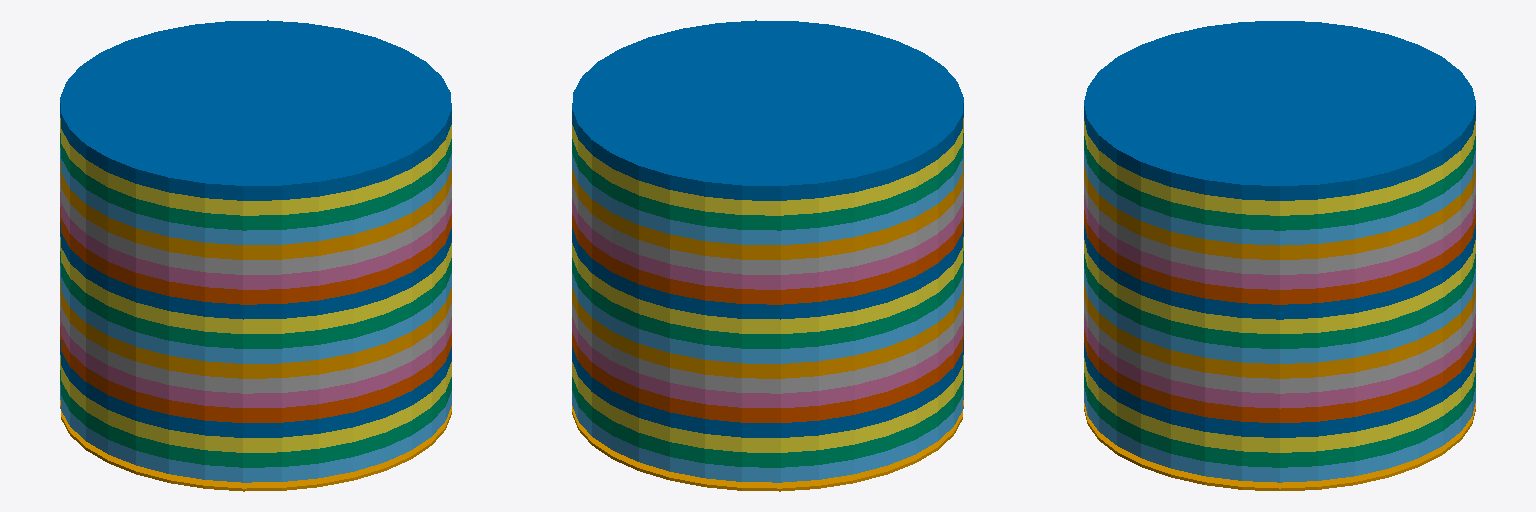
robot.urdf — 1_cylinder:
<?xml version="1.0"?>

<robot name="1_cylinder">

    <!-- The base --> 
    <link name="base_link">
        <inertial>
            <origin xyz="0 0 0" rpy="0 0 0"/>
            <mass value="1"/>
            <inertia ixx="0.1" ixy="0.0" ixz="0.0" iyy="0.1" iyz="0.0" izz="0.1"/>
        </inertial>
        <visual>
            <origin xyz="0 0 0" rpy="0 0 0"/>
            <geometry>
                <cylinder length="0.01" radius="0.6"/>
            </geometry>
        </visual>
        <collision>
            <origin xyz="0 0 0" rpy="0 0 0"/>
            <geometry>
                <cylinder length="0.01" radius="0.6"/>
            </geometry>
        </collision>
    </link>

    <!-- 0 -->
    <link name="0_link">
        <inertial>
            <origin xyz="0 0 0" rpy="0 0 0"/>
            <mass value="1"/>
            <inertia ixx="0.01" ixy="0.0" ixz="0.0" iyy="0.01" iyz="0.0" izz="0.01"/>
        </inertial>
        <visual>
            <origin xyz="0 0 0" rpy="0 0 0"/>
            <geometry>
                <cylinder length="0.05" radius="0.6"/>
            </geometry>
        </visual>
        <collision>
            <origin xyz="0 0 0" rpy="0 0 0"/>
            <geometry>
                <cylinder length="0.05" radius="0.6"/>
            </geometry>
        </collision>
    </link>

    <!-- Joint from base to 0 -->
    <joint name="base_0_joint" type="fixed">
        <parent link="base_link"/>
        <child link="0_link"/>
        <origin xyz="0 0 0.05" rpy="0 0 0"/>
    </joint>

    <!-- 1 -->
    <link name="1_link">
        <inertial>
            <origin xyz="0 0 0" rpy="0 0 0"/>
            <mass value="1"/>
            <inertia ixx="0.01" ixy="0.0" ixz="0.0" iyy="0.01" iyz="0.0" izz="0.01"/>
        </inertial>
        <visual>
            <origin xyz="0 0 0" rpy="0 0 0"/>
            <geometry>
                <cylinder length="0.05" radius="0.6"/>
            </geometry>
        </visual>
        <collision>
            <origin xyz="0 0 0" rpy="0 0 0"/>
            <geometry>
                <cylinder length="0.05" radius="0.6"/>
            </geometry>
        </collision>
    </link>

    <!-- Joint from 0 to 1 -->
    <joint name="0_1_joint" type="fixed">
        <parent link="0_link"/>
        <child link="1_link"/>
        <origin xyz="0 0 0.05" rpy="0 0 0"/>
    </joint>

    <!-- 2 -->
    <link name="2_link">
        <inertial>
            <origin xyz="0 0 0" rpy="0 0 0"/>
            <mass value="1"/>
            <inertia ixx="0.01" ixy="0.0" ixz="0.0" iyy="0.01" iyz="0.0" izz="0.01"/>
        </inertial>
        <visual>
            <origin xyz="0 0 0" rpy="0 0 0"/>
            <geometry>
                <cylinder length="0.05" radius="0.6"/>
            </geometry>
        </visual>
        <collision>
            <origin xyz="0 0 0" rpy="0 0 0"/>
            <geometry>
                <cylinder length="0.05" radius="0.6"/>
            </geometry>
        </collision>
    </link>

    <!-- Joint from 1 to 2 -->
    <joint name="1_2_joint" type="fixed">
        <parent link="1_link"/>
        <child link="2_link"/>
        <origin xyz="0 0 0.05" rpy="0 0 0"/>
    </joint>

    <!-- 3 -->
    <link name="3_link">
        <inertial>
            <origin xyz="0 0 0" rpy="0 0 0"/>
            <mass value="1"/>
            <inertia ixx="0.01" ixy="0.0" ixz="0.0" iyy="0.01" iyz="0.0" izz="0.01"/>
        </inertial>
        <visual>
            <origin xyz="0 0 0" rpy="0 0 0"/>
            <geometry>
                <cylinder length="0.05" radius="0.6"/>
            </geometry>
        </visual>
        <collision>
            <origin xyz="0 0 0" rpy="0 0 0"/>
            <geometry>
                <cylinder length="0.05" radius="0.6"/>
            </geometry>
        </collision>
    </link>

    <!-- Joint from 2 to 3 -->
    <joint name="2_3_joint" type="fixed">
        <parent link="2_link"/>
        <child link="3_link"/>
        <origin xyz="0 0 0.05" rpy="0 0 0"/>
    </joint>

    <!-- 4 -->
    <link name="4_link">
        <inertial>
            <origin xyz="0 0 0" rpy="0 0 0"/>
            <mass value="1"/>
            <inertia ixx="0.01" ixy="0.0" ixz="0.0" iyy="0.01" iyz="0.0" izz="0.01"/>
        </inertial>
        <visual>
            <origin xyz="0 0 0" rpy="0 0 0"/>
            <geometry>
                <cylinder length="0.05" radius="0.6"/>
            </geometry>
        </visual>
        <collision>
            <origin xyz="0 0 0" rpy="0 0 0"/>
            <geometry>
                <cylinder length="0.05" radius="0.6"/>
            </geometry>
        </collision>
    </link>

    <!-- Joint from 3 to 4 -->
    <joint name="3_4_joint" type="fixed">
        <parent link="3_link"/>
        <child link="4_link"/>
        <origin xyz="0 0 0.05" rpy="0 0 0"/>
    </joint>

    <!-- 5 -->
    <link name="5_link">
        <inertial>
            <origin xyz="0 0 0" rpy="0 0 0"/>
            <mass value="1"/>
            <inertia ixx="0.01" ixy="0.0" ixz="0.0" iyy="0.01" iyz="0.0" izz="0.01"/>
        </inertial>
        <visual>
            <origin xyz="0 0 0" rpy="0 0 0"/>
            <geometry>
                <cylinder length="0.05" radius="0.6"/>
            </geometry>
        </visual>
        <collision>
            <origin xyz="0 0 0" rpy="0 0 0"/>
            <geometry>
                <cylinder length="0.05" radius="0.6"/>
            </geometry>
        </collision>
    </link>

    <!-- Joint from 4 to 5 -->
    <joint name="4_5_joint" type="fixed">
        <parent link="4_link"/>
        <child link="5_link"/>
        <origin xyz="0 0 0.05" rpy="0 0 0"/>
    </joint>

    <!-- 6 -->
    <link name="6_link">
        <inertial>
            <origin xyz="0 0 0" rpy="0 0 0"/>
            <mass value="1"/>
            <inertia ixx="0.01" ixy="0.0" ixz="0.0" iyy="0.01" iyz="0.0" izz="0.01"/>
        </inertial>
        <visual>
            <origin xyz="0 0 0" rpy="0 0 0"/>
            <geometry>
                <cylinder length="0.05" radius="0.6"/>
            </geometry>
        </visual>
        <collision>
            <origin xyz="0 0 0" rpy="0 0 0"/>
            <geometry>
                <cylinder length="0.05" radius="0.6"/>
            </geometry>
        </collision>
    </link>

    <!-- Joint from 5 to 6 -->
    <joint name="5_6_joint" type="fixed">
        <parent link="5_link"/>
        <child link="6_link"/>
        <origin xyz="0 0 0.05" rpy="0 0 0"/>
    </joint>

    <!-- 7 -->
    <link name="7_link">
        <inertial>
            <origin xyz="0 0 0" rpy="0 0 0"/>
            <mass value="1"/>
            <inertia ixx="0.01" ixy="0.0" ixz="0.0" iyy="0.01" iyz="0.0" izz="0.01"/>
        </inertial>
        <visual>
            <origin xyz="0 0 0" rpy="0 0 0"/>
            <geometry>
                <cylinder length="0.05" radius="0.6"/>
            </geometry>
        </visual>
        <collision>
            <origin xyz="0 0 0" rpy="0 0 0"/>
            <geometry>
                <cylinder length="0.05" radius="0.6"/>
            </geometry>
        </collision>
    </link>

    <!-- Joint from 6 to 7 -->
    <joint name="6_7_joint" type="fixed">
        <parent link="6_link"/>
        <child link="7_link"/>
        <origin xyz="0 0 0.05" rpy="0 0 0"/>
    </joint>

    <!-- 8 -->
    <link name="8_link">
        <inertial>
            <origin xyz="0 0 0" rpy="0 0 0"/>
            <mass value="1"/>
            <inertia ixx="0.01" ixy="0.0" ixz="0.0" iyy="0.01" iyz="0.0" izz="0.01"/>
        </inertial>
        <visual>
            <origin xyz="0 0 0" rpy="0 0 0"/>
            <geometry>
                <cylinder length="0.05" radius="0.6"/>
            </geometry>
        </visual>
        <collision>
            <origin xyz="0 0 0" rpy="0 0 0"/>
            <geometry>
                <cylinder length="0.05" radius="0.6"/>
            </geometry>
        </collision>
    </link>

    <!-- Joint from 7 to 8 -->
    <joint name="7_8_joint" type="fixed">
        <parent link="7_link"/>
        <child link="8_link"/>
        <origin xyz="0 0 0.05" rpy="0 0 0"/>
    </joint>

    <!-- 9 -->
    <link name="9_link">
        <inertial>
            <origin xyz="0 0 0" rpy="0 0 0"/>
            <mass value="1"/>
            <inertia ixx="0.01" ixy="0.0" ixz="0.0" iyy="0.01" iyz="0.0" izz="0.01"/>
        </inertial>
        <visual>
            <origin xyz="0 0 0" rpy="0 0 0"/>
            <geometry>
                <cylinder length="0.05" radius="0.6"/>
            </geometry>
        </visual>
        <collision>
            <origin xyz="0 0 0" rpy="0 0 0"/>
            <geometry>
                <cylinder length="0.05" radius="0.6"/>
            </geometry>
        </collision>
    </link>

    <!-- Joint from 8 to 9 -->
    <joint name="8_9_joint" type="fixed">
        <parent link="8_link"/>
        <child link="9_link"/>
        <origin xyz="0 0 0.05" rpy="0 0 0"/>
    </joint>

    <!-- 10 -->
    <link name="10_link">
        <inertial>
            <origin xyz="0 0 0" rpy="0 0 0"/>
            <mass value="1"/>
            <inertia ixx="0.01" ixy="0.0" ixz="0.0" iyy="0.01" iyz="0.0" izz="0.01"/>
        </inertial>
        <visual>
            <origin xyz="0 0 0" rpy="0 0 0"/>
            <geometry>
                <cylinder length="0.05" radius="0.6"/>
            </geometry>
        </visual>
        <collision>
            <origin xyz="0 0 0" rpy="0 0 0"/>
            <geometry>
                <cylinder length="0.05" radius="0.6"/>
            </geometry>
        </collision>
    </link>

    <!-- Joint from 9 to 10 -->
    <joint name="9_10_joint" type="fixed">
        <parent link="9_link"/>
        <child link="10_link"/>
        <origin xyz="0 0 0.05" rpy="0 0 0"/>
    </joint>

    <!-- 11 -->
    <link name="11_link">
        <inertial>
            <origin xyz="0 0 0" rpy="0 0 0"/>
            <mass value="1"/>
            <inertia ixx="0.01" ixy="0.0" ixz="0.0" iyy="0.01" iyz="0.0" izz="0.01"/>
        </inertial>
        <visual>
            <origin xyz="0 0 0" rpy="0 0 0"/>
            <geometry>
                <cylinder length="0.05" radius="0.6"/>
            </geometry>
        </visual>
        <collision>
            <origin xyz="0 0 0" rpy="0 0 0"/>
            <geometry>
                <cylinder length="0.05" radius="0.6"/>
            </geometry>
        </collision>
    </link>

    <!-- Joint from 10 to 11 -->
    <joint name="10_11_joint" type="fixed">
        <parent link="10_link"/>
        <child link="11_link"/>
        <origin xyz="0 0 0.05" rpy="0 0 0"/>
    </joint>

    <!-- 12 -->
    <link name="12_link">
        <inertial>
            <origin xyz="0 0 0" rpy="0 0 0"/>
            <mass value="1"/>
            <inertia ixx="0.01" ixy="0.0" ixz="0.0" iyy="0.01" iyz="0.0" izz="0.01"/>
        </inertial>
        <visual>
            <origin xyz="0 0 0" rpy="0 0 0"/>
            <geometry>
                <cylinder length="0.05" radius="0.6"/>
            </geometry>
        </visual>
        <collision>
            <origin xyz="0 0 0" rpy="0 0 0"/>
            <geometry>
                <cylinder length="0.05" radius="0.6"/>
            </geometry>
        </collision>
    </link>

    <!-- Joint from 11 to 12 -->
    <joint name="11_12_joint" type="fixed">
        <parent link="11_link"/>
        <child link="12_link"/>
        <origin xyz="0 0 0.05" rpy="0 0 0"/>
    </joint>

    <!-- 13 -->
    <link name="13_link">
        <inertial>
            <origin xyz="0 0 0" rpy="0 0 0"/>
            <mass value="1"/>
            <inertia ixx="0.01" ixy="0.0" ixz="0.0" iyy="0.01" iyz="0.0" izz="0.01"/>
        </inertial>
        <visual>
            <origin xyz="0 0 0" rpy="0 0 0"/>
            <geometry>
                <cylinder length="0.05" radius="0.6"/>
            </geometry>
        </visual>
        <collision>
            <origin xyz="0 0 0" rpy="0 0 0"/>
            <geometry>
                <cylinder length="0.05" radius="0.6"/>
            </geometry>
        </collision>
    </link>

    <!-- Joint from 12 to 13 -->
    <joint name="12_13_joint" type="fixed">
        <parent link="12_link"/>
        <child link="13_link"/>
        <origin xyz="0 0 0.05" rpy="0 0 0"/>
    </joint>

    <!-- 14 -->
    <link name="14_link">
        <inertial>
            <origin xyz="0 0 0" rpy="0 0 0"/>
            <mass value="1"/>
            <inertia ixx="0.01" ixy="0.0" ixz="0.0" iyy="0.01" iyz="0.0" izz="0.01"/>
        </inertial>
        <visual>
            <origin xyz="0 0 0" rpy="0 0 0"/>
            <geometry>
                <cylinder length="0.05" radius="0.6"/>
            </geometry>
        </visual>
        <collision>
            <origin xyz="0 0 0" rpy="0 0 0"/>
            <geometry>
                <cylinder length="0.05" radius="0.6"/>
            </geometry>
        </collision>
    </link>

    <!-- Joint from 13 to 14 -->
    <joint name="13_14_joint" type="fixed">
        <parent link="13_link"/>
        <child link="14_link"/>
        <origin xyz="0 0 0.05" rpy="0 0 0"/>
    </joint>

    <!-- 15 -->
    <link name="15_link">
        <inertial>
            <origin xyz="0 0 0" rpy="0 0 0"/>
            <mass value="1"/>
            <inertia ixx="0.01" ixy="0.0" ixz="0.0" iyy="0.01" iyz="0.0" izz="0.01"/>
        </inertial>
        <visual>
            <origin xyz="0 0 0" rpy="0 0 0"/>
            <geometry>
                <cylinder length="0.05" radius="0.6"/>
            </geometry>
        </visual>
        <collision>
            <origin xyz="0 0 0" rpy="0 0 0"/>
            <geometry>
                <cylinder length="0.05" radius="0.6"/>
            </geometry>
        </collision>
    </link>

    <!-- Joint from 14 to 15 -->
    <joint name="14_15_joint" type="fixed">
        <parent link="14_link"/>
        <child link="15_link"/>
        <origin xyz="0 0 0.05" rpy="0 0 0"/>
    </joint>

    <!-- 16 -->
    <link name="16_link">
        <inertial>
            <origin xyz="0 0 0" rpy="0 0 0"/>
            <mass value="1"/>
            <inertia ixx="0.01" ixy="0.0" ixz="0.0" iyy="0.01" iyz="0.0" izz="0.01"/>
        </inertial>
        <visual>
            <origin xyz="0 0 0" rpy="0 0 0"/>
            <geometry>
                <cylinder length="0.05" radius="0.6"/>
            </geometry>
        </visual>
        <collision>
            <origin xyz="0 0 0" rpy="0 0 0"/>
            <geometry>
                <cylinder length="0.05" radius="0.6"/>
            </geometry>
        </collision>
    </link>

    <!-- Joint from 15 to 16 -->
    <joint name="15_16_joint" type="fixed">
        <parent link="15_link"/>
        <child link="16_link"/>
        <origin xyz="0 0 0.05" rpy="0 0 0"/>
    </joint>

    <!-- 17 -->
    <link name="17_link">
        <inertial>
            <origin xyz="0 0 0" rpy="0 0 0"/>
            <mass value="1"/>
            <inertia ixx="0.01" ixy="0.0" ixz="0.0" iyy="0.01" iyz="0.0" izz="0.01"/>
        </inertial>
        <visual>
            <origin xyz="0 0 0" rpy="0 0 0"/>
            <geometry>
                <cylinder length="0.05" radius="0.6"/>
            </geometry>
        </visual>
        <collision>
            <origin xyz="0 0 0" rpy="0 0 0"/>
            <geometry>
                <cylinder length="0.05" radius="0.6"/>
            </geometry>
        </collision>
    </link>

    <!-- Joint from 16 to 17 -->
    <joint name="16_17_joint" type="fixed">
        <parent link="16_link"/>
        <child link="17_link"/>
        <origin xyz="0 0 0.05" rpy="0 0 0"/>
    </joint>

    <!-- 18 -->
    <link name="18_link">
        <inertial>
            <origin xyz="0 0 0" rpy="0 0 0"/>
            <mass value="1"/>
            <inertia ixx="0.01" ixy="0.0" ixz="0.0" iyy="0.01" iyz="0.0" izz="0.01"/>
        </inertial>
        <visual>
            <origin xyz="0 0 0" rpy="0 0 0"/>
            <geometry>
                <cylinder length="0.05" radius="0.6"/>
            </geometry>
        </visual>
        <collision>
            <origin xyz="0 0 0" rpy="0 0 0"/>
            <geometry>
                <cylinder length="0.05" radius="0.6"/>
            </geometry>
        </collision>
    </link>

    <!-- Joint from 17 to 18 -->
    <joint name="17_18_joint" type="fixed">
        <parent link="17_link"/>
        <child link="18_link"/>
        <origin xyz="0 0 0.05" rpy="0 0 0"/>
    </joint>

    <!-- 19 -->
    <link name="19_link">
        <inertial>
            <origin xyz="0 0 0" rpy="0 0 0"/>
            <mass value="1"/>
            <inertia ixx="0.01" ixy="0.0" ixz="0.0" iyy="0.01" iyz="0.0" izz="0.01"/>
        </inertial>
        <visual>
            <origin xyz="0 0 0" rpy="0 0 0"/>
            <geometry>
                <cylinder length="0.05" radius="0.6"/>
            </geometry>
        </visual>
        <collision>
            <origin xyz="0 0 0" rpy="0 0 0"/>
            <geometry>
                <cylinder length="0.05" radius="0.6"/>
            </geometry>
        </collision>
    </link>

    <!-- Joint from 18 to 19 -->
    <joint name="18_19_joint" type="fixed">
        <parent link="18_link"/>
        <child link="19_link"/>
        <origin xyz="0 0 0.05" rpy="0 0 0"/>
    </joint>

</robot>

--- Facts derived from the render (not from the file) ---
3 views of the same robot in one strip: view 1: azimuth 30°, elevation 25°; view 2: azimuth 150°, elevation 25°; view 3: azimuth 270°, elevation 25° (orthographic).
Robot: 1_cylinder — 21 links, 20 joints (20 fixed); root link base_link; default pose: every joint at zero.
Visible links, largest first — view 1: 19_link, 15_link, 9_link, 2_link, 3_link, 4_link, 8_link, 10_link, 16_link, 14_link, 7_link, 1_link (+9 smaller); view 2: 19_link, 15_link, 9_link, 2_link, 3_link, 4_link, 8_link, 10_link, 16_link, 14_link, 7_link, 1_link (+9 smaller); view 3: 19_link, 13_link, 2_link, 4_link, 8_link, 9_link, 10_link, 1_link, 6_link, 14_link, 16_link, 17_link (+9 smaller).
Link boxes in pixels (left/top/right/bottom): 19_link: left=60, top=20, right=451, bottom=200; 15_link: left=60, top=162, right=451, bottom=259; 9_link: left=60, top=251, right=451, bottom=348; 2_link: left=60, top=355, right=451, bottom=452; 3_link: left=60, top=340, right=451, bottom=437; 4_link: left=60, top=326, right=451, bottom=422; 8_link: left=60, top=266, right=451, bottom=363; 10_link: left=60, top=237, right=451, bottom=333; 16_link: left=60, top=148, right=451, bottom=244; 14_link: left=60, top=177, right=451, bottom=274; 7_link: left=60, top=281, right=451, bottom=378; 1_link: left=60, top=370, right=451, bottom=467; 19_link: left=572, top=20, right=963, bottom=200; 15_link: left=572, top=162, right=963, bottom=259; 9_link: left=572, top=251, right=963, bottom=348; 2_link: left=572, top=355, right=963, bottom=452; 3_link: left=572, top=340, right=963, bottom=437; 4_link: left=572, top=326, right=963, bottom=422; 8_link: left=572, top=266, right=963, bottom=363; 10_link: left=572, top=237, right=963, bottom=333; 16_link: left=572, top=148, right=963, bottom=244; 14_link: left=572, top=177, right=963, bottom=274; 7_link: left=572, top=281, right=963, bottom=378; 1_link: left=572, top=370, right=963, bottom=467; 19_link: left=1084, top=21, right=1475, bottom=200; 13_link: left=1084, top=195, right=1475, bottom=289; 2_link: left=1084, top=358, right=1475, bottom=452; 4_link: left=1084, top=329, right=1475, bottom=422; 8_link: left=1084, top=269, right=1475, bottom=363; 9_link: left=1084, top=254, right=1475, bottom=348; 10_link: left=1084, top=240, right=1475, bottom=333; 1_link: left=1084, top=373, right=1475, bottom=467; 6_link: left=1084, top=299, right=1475, bottom=393; 14_link: left=1084, top=180, right=1475, bottom=274; 16_link: left=1084, top=151, right=1475, bottom=245; 17_link: left=1084, top=136, right=1475, bottom=230.
Bounding box of the posed robot: 1.2 × 1.2 × 1.03 m (x, y, z).
Geometry: primitives only (box / cylinder / sphere), no mesh files.
